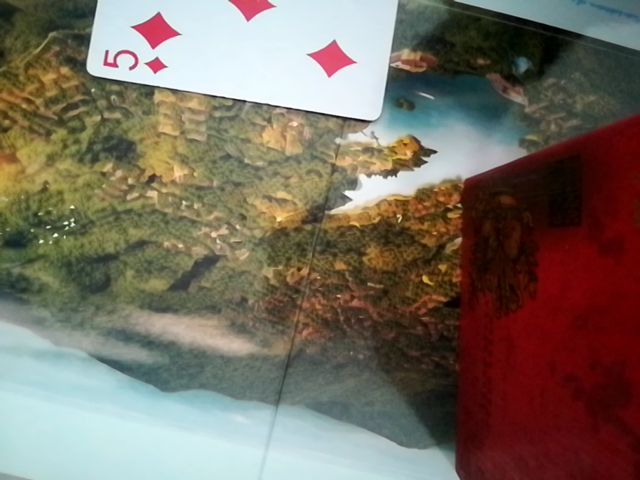fk 5: (84, 0, 410, 125)
